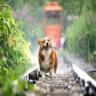dog: (37, 36, 58, 80)
